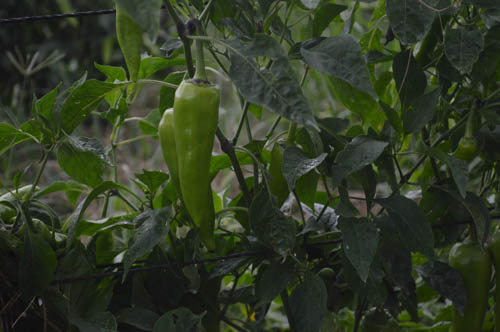ChiliPepper: (158, 112, 213, 248), (172, 82, 220, 221), (449, 245, 489, 324), (114, 11, 141, 81)
